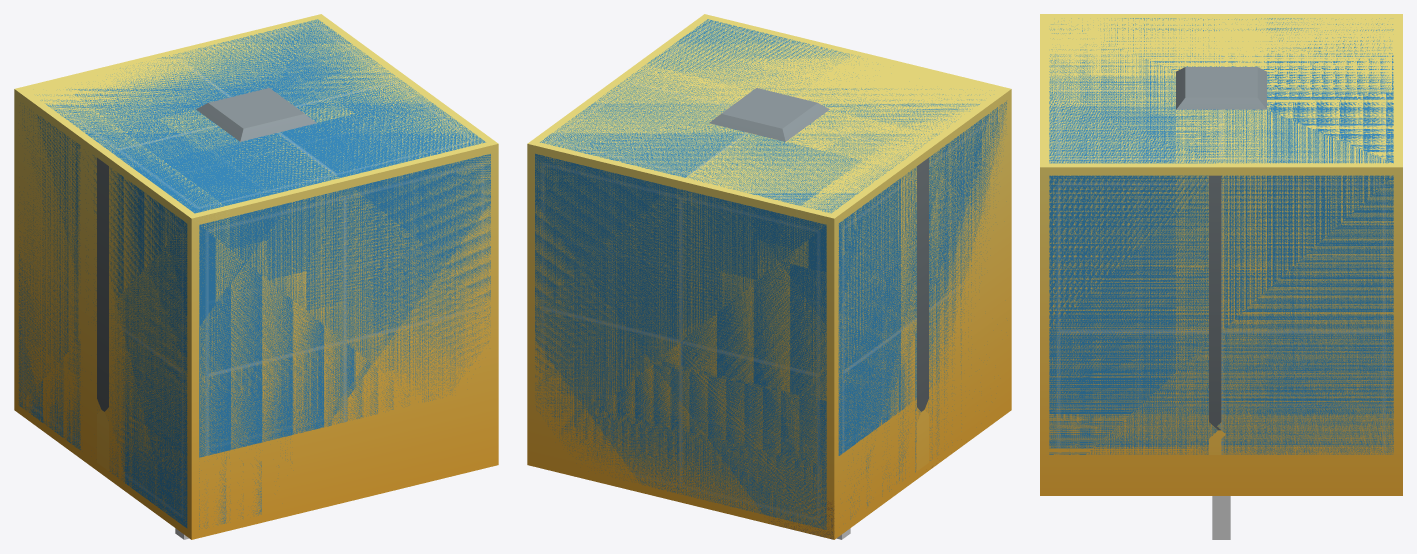
The model's file is prototype.glb.
3 renders of one model, left to right at view 1: azimuth 30°, elevation 25°; view 2: azimuth 150°, elevation 25°; view 3: azimuth 270°, elevation 25°, orthographic. The views are drawn at different scales.
Parts seen in each view (by area): view 1: Cube_Prototype_Large_A, Primitive_Cube, Primitive_Slope_Half_InnerCorner, Primitive_Floor_Hole, Primitive_Slope_Half, Primitive_Slope_Half_OuterCorner, Primitive_Wall_Slope, Primitive_Stairs, Pillar_B, Wall, Wall_Doorway, Wall_Decorated (+2 smaller); view 2: Cube_Prototype_Large_A, Primitive_Cube, Primitive_Slope_Half, Primitive_Slope_Half_InnerCorner, Primitive_Stairs, Primitive_Slope_Half_OuterCorner, Primitive_Doorway, Primitive_Floor_Hole, Pillar_B, Wall, Primitive_Wall, Wall_Target (+2 smaller); view 3: Cube_Prototype_Large_A, Primitive_Cube, Primitive_Slope_Half_InnerCorner, Primitive_Stairs_Half, Primitive_Floor_Hole, Primitive_Doorway, Primitive_Slope_Half, Wall_Half, Pillar_B, Primitive_Wall, Primitive_Slope_InnerCorner, Primitive_Wall_OpenCorner (+4 smaller).
Boxes of the visible parts, x1,y1,x2,y2 form: Cube_Prototype_Large_A: (18,19,490,529); Primitive_Cube: (14,14,498,539); Primitive_Slope_Half_InnerCorner: (14,14,493,535); Primitive_Floor_Hole: (14,331,498,539); Primitive_Slope_Half: (16,59,497,458); Primitive_Slope_Half_OuterCorner: (14,56,497,537); Primitive_Wall_Slope: (80,138,124,490); Primitive_Stairs: (23,79,421,457); Pillar_B: (196,88,316,141); Wall: (97,158,108,470); Wall_Doorway: (97,158,108,468); Wall_Decorated: (97,158,108,468); Cube_Prototype_Large_A: (535,19,1006,529); Primitive_Cube: (527,14,1011,539); Primitive_Slope_Half: (527,52,1010,539); Primitive_Slope_Half_InnerCorner: (529,52,1011,490); Primitive_Stairs: (535,93,1002,538); Primitive_Slope_Half_OuterCorner: (683,130,1011,487); Primitive_Doorway: (601,63,945,479); Primitive_Floor_Hole: (834,377,948,539); Pillar_B: (709,88,829,141); Wall: (917,157,928,469); Primitive_Wall: (616,66,945,409); Wall_Target: (917,209,927,458); Cube_Prototype_Large_A: (1049,18,1393,454); Primitive_Cube: (1040,14,1402,454); Primitive_Slope_Half_InnerCorner: (1040,14,1402,454); Primitive_Stairs_Half: (1040,455,1402,495); Primitive_Floor_Hole: (1040,414,1402,454); Primitive_Doorway: (1176,14,1266,454); Primitive_Slope_Half: (1040,14,1402,452); Wall_Half: (1209,175,1225,454); Pillar_B: (1176,67,1266,109); Primitive_Wall: (1176,17,1266,451); Primitive_Slope_InnerCorner: (1107,170,1402,454); Primitive_Wall_OpenCorner: (1176,113,1266,454).
Size of the model in its own units: 4 by 5.1 by 4.
1 material, 1 textured.
